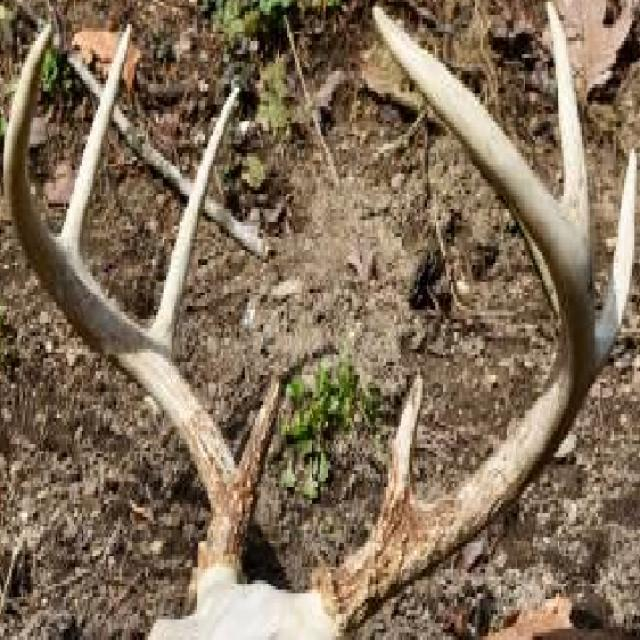L-F: (312, 7, 595, 635)
L-G1: (379, 371, 424, 517)
L-G3: (545, 0, 592, 247)
R-F: (3, 19, 249, 582)
R-G1: (237, 374, 282, 518)
R-G2: (149, 83, 241, 358)
R-G3: (60, 21, 134, 256)
